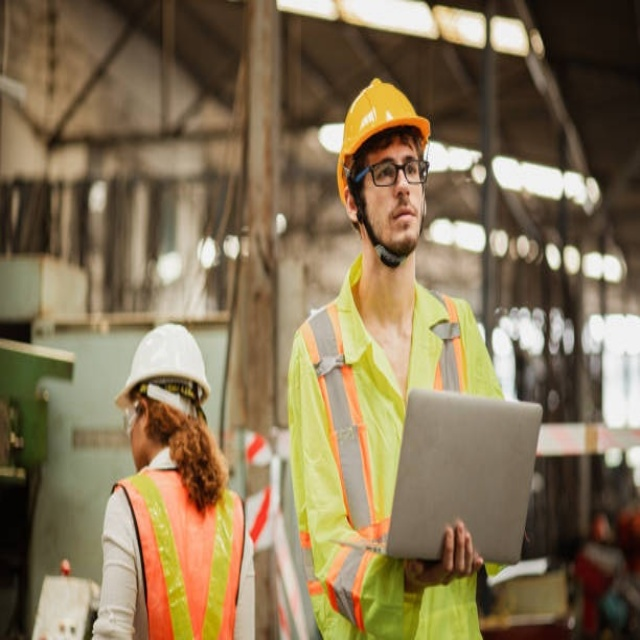Gafas: (355, 152, 429, 185), (119, 392, 141, 433)
Sin_guantes: (405, 521, 481, 589)
Sin_mascara: (385, 199, 419, 237)
